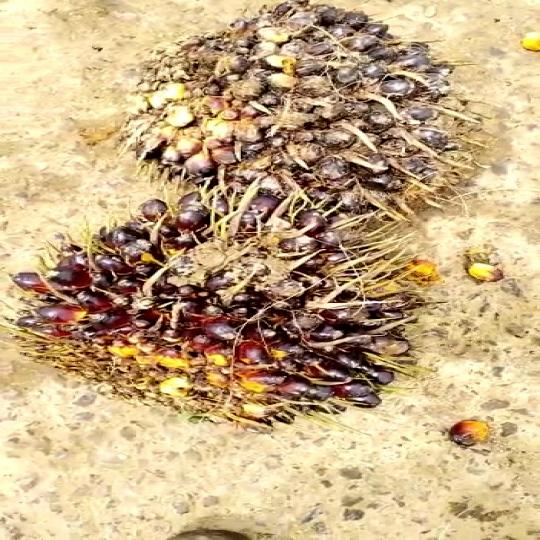mentah: (111, 0, 516, 247), (0, 208, 455, 422)
